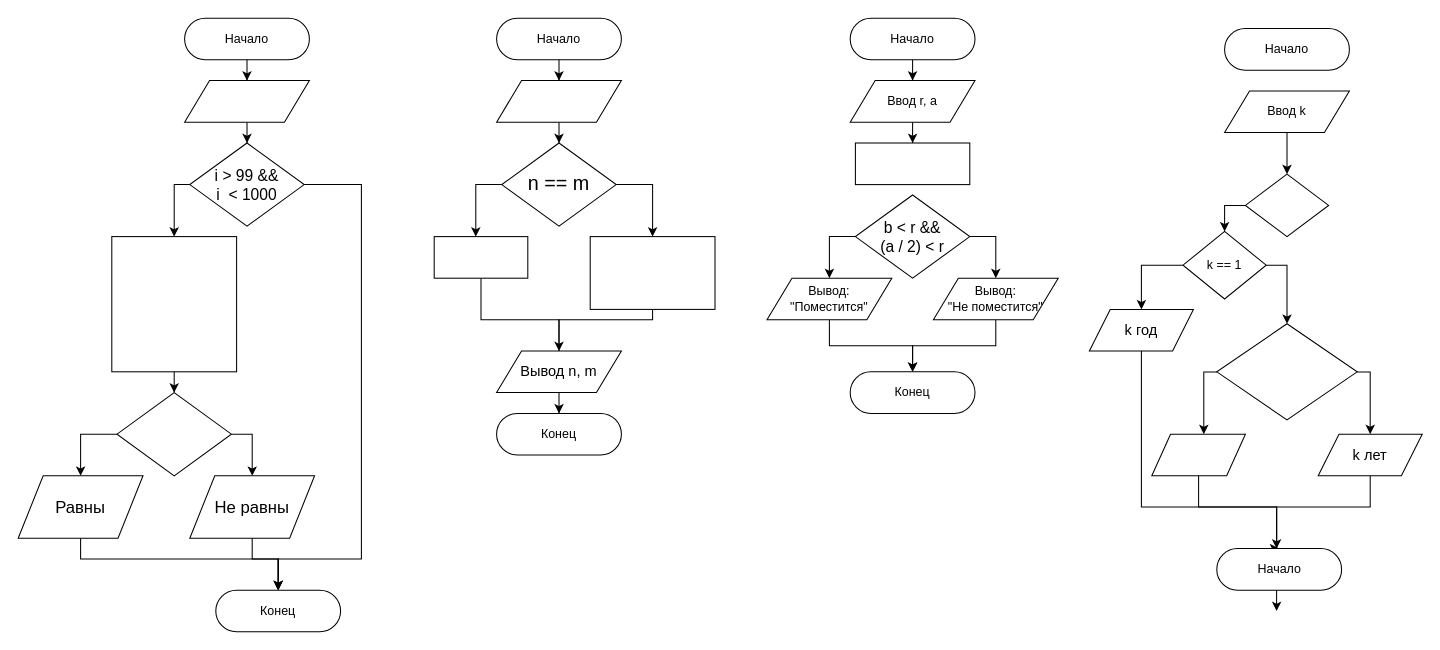
Image size: 1440x650. Some labels were removed from this diagram. The shapes that lost their labels are listed below. From the top down, each one's centre as x and y in pixels, then its label:
At (x=246, y=101): "Ввод i".
At (x=558, y=101): "Ввод n, m".
At (x=912, y=163): "b = sqrt(a - (a/2)".
At (x=1286, y=205): "k < 99".
At (x=480, y=257): "n, m = 0".
At (x=652, y=272): "e = n + m + rand n = e m = e".
At (x=174, y=304): "power = a ^ 2 f = i / 100 s = (i % 100) / 10 t = i % 10 tr = (f + s + t) ^ 3".
At (x=1286, y=371): "k <= 4 || k % 10 == 1 || k % 10 == 4".
At (x=173, y=434): "tr == power".
At (x=1198, y=454): "k года".
